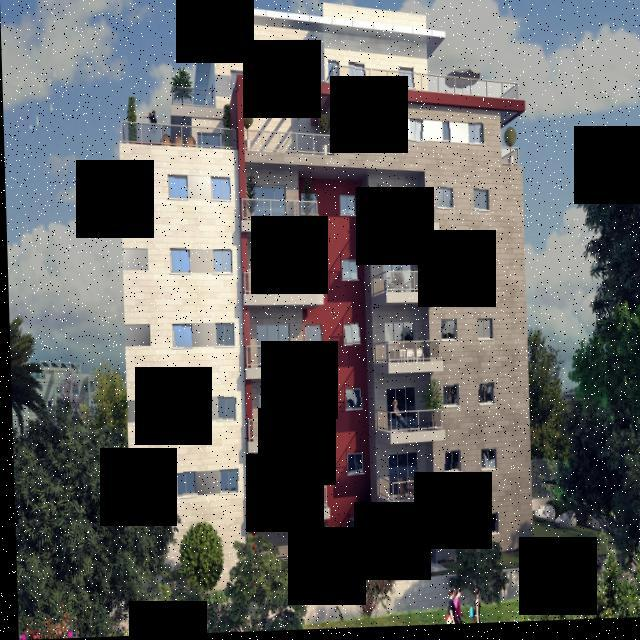Window: (174, 472, 196, 500), (215, 393, 236, 422), (210, 177, 230, 205), (298, 190, 318, 218), (217, 471, 239, 496), (174, 399, 194, 426), (472, 190, 491, 217), (168, 248, 188, 273), (170, 326, 190, 350), (304, 324, 321, 352), (212, 250, 230, 276), (307, 524, 325, 550), (304, 458, 324, 481), (398, 69, 416, 94), (349, 64, 365, 92), (341, 324, 358, 350), (438, 253, 455, 279), (167, 176, 187, 198), (214, 325, 232, 348), (284, 76, 301, 100), (441, 452, 458, 476), (304, 394, 322, 416), (476, 386, 494, 408), (338, 197, 355, 220), (262, 73, 279, 96), (328, 60, 340, 92), (301, 262, 318, 284), (478, 451, 494, 474), (409, 122, 424, 146), (347, 522, 363, 544), (232, 72, 248, 94), (440, 322, 456, 344), (342, 393, 360, 412), (340, 262, 356, 283), (442, 387, 458, 408), (357, 116, 372, 138), (437, 189, 452, 211), (444, 518, 459, 540), (468, 126, 482, 149), (474, 256, 488, 279), (478, 516, 494, 536), (346, 458, 360, 478), (474, 323, 490, 340), (442, 123, 450, 147)
